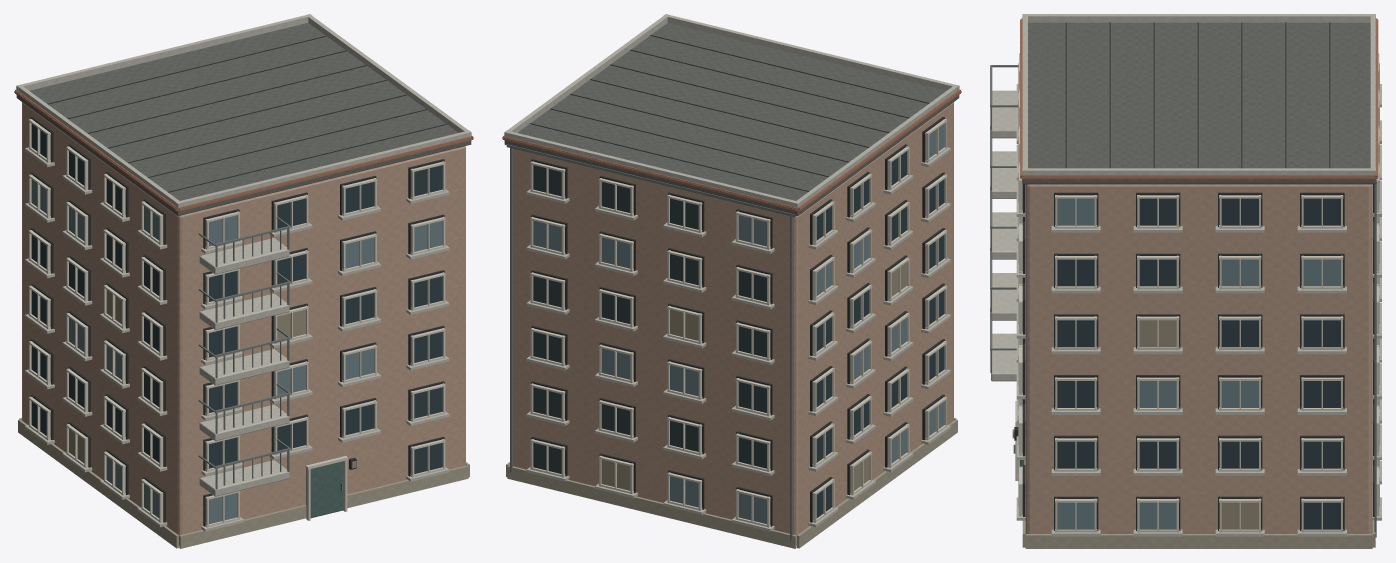
File: RES_MID_2x2_003.glb
3 renders of one model, left to right at view 1: azimuth 30°, elevation 25°; view 2: azimuth 150°, elevation 25°; view 3: azimuth 270°, elevation 25°, orthographic. The views are drawn at different scales.
Visible parts, largest first — view 1: RES_MID_2x2_003_Visual; view 2: RES_MID_2x2_003_Visual; view 3: RES_MID_2x2_003_Visual.
Boxes of the visible parts, box(x1,y1,x2,y2) form: RES_MID_2x2_003_Visual: box(14, 14, 473, 548); RES_MID_2x2_003_Visual: box(502, 14, 961, 548); RES_MID_2x2_003_Visual: box(990, 14, 1381, 548).
Size of what is drawn, in the model's own units: 3.31 by 3.61 by 3.39.
12 materials, 6 textured.
